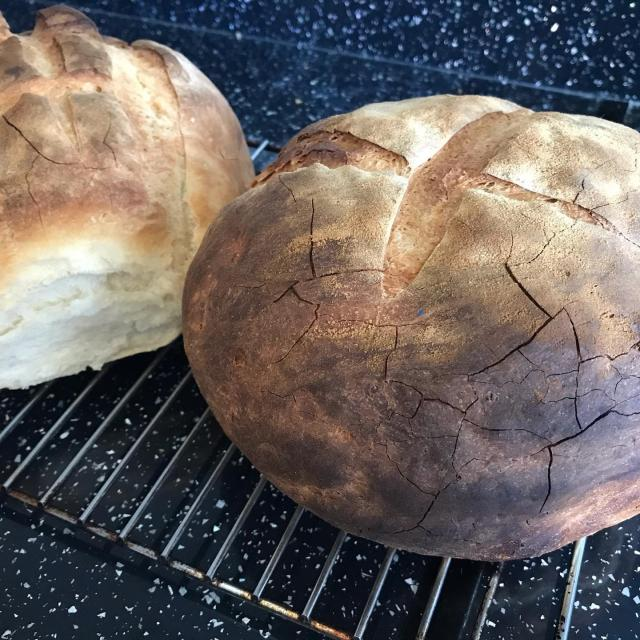Maltese-Bread: (183, 95, 640, 561), (0, 6, 254, 388)
